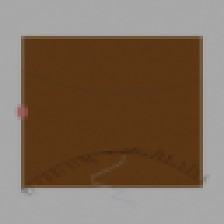foreign_body_visible: (81, 97, 114, 123)
